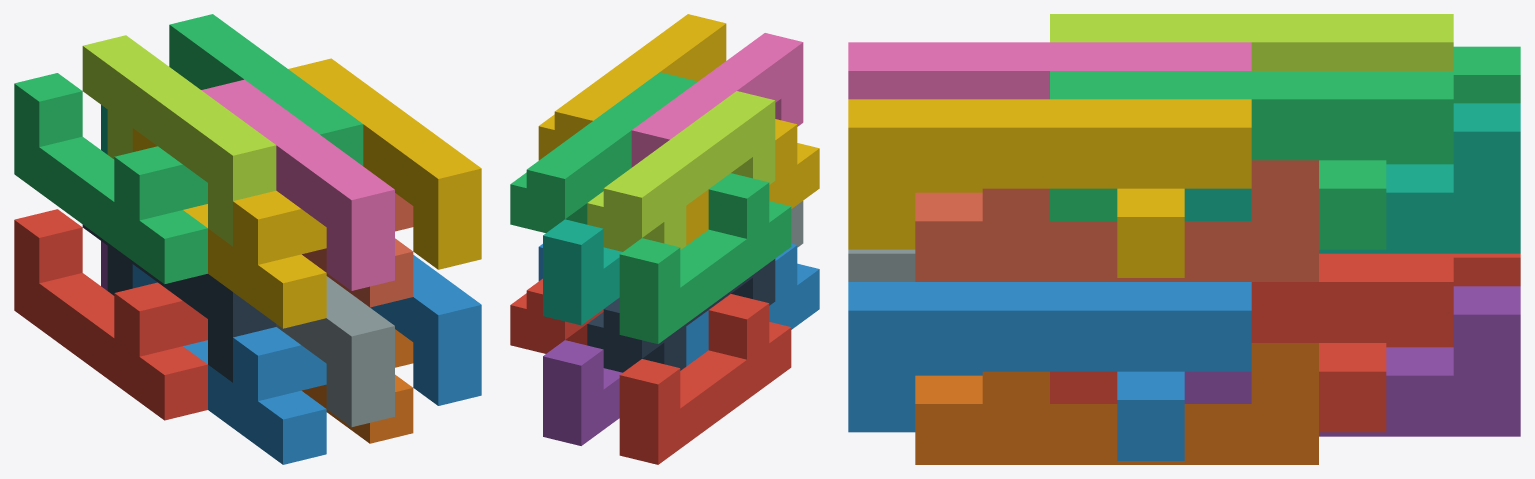
File: tiling.obj
The picture shows the model from 3 angles, left to right: view 1: azimuth 30°, elevation 25°; view 2: azimuth 150°, elevation 25°; view 3: azimuth 270°, elevation 25°; orthographic projection. The views are drawn at different scales.
Visible parts, largest first — view 1: copy_1_domain_1, copy_1_domain_3, copy_2_domain_3, copy_2_domain_4, copy_2_domain_8, copy_1_domain_2, copy_1_domain_4, copy_2_domain_7, copy_2_domain_2, copy_2_domain_6, copy_2_domain_1, copy_1_domain_8 (+1 smaller); view 2: copy_1_domain_3, copy_1_domain_1, copy_2_domain_3, copy_2_domain_7, copy_2_domain_4, copy_2_domain_8, copy_1_domain_7, copy_1_domain_5, copy_2_domain_1, copy_1_domain_4, copy_1_domain_2, copy_2_domain_5 (+1 smaller); view 3: copy_2_domain_8, copy_2_domain_6, copy_2_domain_7, copy_1_domain_6, copy_1_domain_8, copy_2_domain_5, copy_1_domain_7, copy_1_domain_5, copy_2_domain_4, copy_2_domain_3, copy_1_domain_3, copy_1_domain_1 (+1 smaller).
Part boxes in pixels (bbox=[...]): copy_1_domain_1: bbox=[14, 209, 207, 420]; copy_1_domain_3: bbox=[14, 73, 207, 284]; copy_2_domain_3: bbox=[82, 35, 276, 246]; copy_2_domain_4: bbox=[201, 79, 394, 290]; copy_2_domain_8: bbox=[288, 58, 481, 269]; copy_1_domain_2: bbox=[132, 264, 326, 464]; copy_1_domain_4: bbox=[132, 128, 326, 328]; copy_2_domain_7: bbox=[169, 14, 363, 165]; copy_2_domain_2: bbox=[276, 276, 394, 427]; copy_2_domain_6: bbox=[370, 255, 481, 405]; copy_2_domain_1: bbox=[82, 224, 276, 382]; copy_1_domain_8: bbox=[302, 193, 413, 307]; copy_1_domain_3: bbox=[619, 173, 791, 343]; copy_1_domain_1: bbox=[619, 294, 791, 464]; copy_2_domain_3: bbox=[587, 91, 775, 251]; copy_2_domain_7: bbox=[510, 72, 697, 232]; copy_2_domain_4: bbox=[631, 33, 803, 167]; copy_2_domain_8: bbox=[538, 14, 726, 160]; copy_1_domain_7: bbox=[543, 219, 622, 325]; copy_1_domain_5: bbox=[543, 340, 622, 445]; copy_2_domain_1: bbox=[587, 259, 775, 372]; copy_1_domain_4: bbox=[686, 119, 819, 245]; copy_1_domain_2: bbox=[686, 243, 819, 366]; copy_2_domain_5: bbox=[510, 278, 603, 353]; copy_2_domain_8: bbox=[848, 99, 1251, 277]; copy_2_domain_6: bbox=[848, 282, 1251, 460]; copy_2_domain_7: bbox=[1050, 71, 1453, 249]; copy_1_domain_6: bbox=[915, 343, 1318, 464]; copy_1_domain_8: bbox=[915, 160, 1318, 281]; copy_2_domain_5: bbox=[1050, 253, 1453, 432]; copy_1_domain_7: bbox=[1184, 103, 1520, 253]; copy_1_domain_5: bbox=[1184, 286, 1520, 436]; copy_2_domain_4: bbox=[848, 42, 1251, 99]; copy_2_domain_3: bbox=[1050, 14, 1453, 70]; copy_1_domain_3: bbox=[1386, 46, 1520, 164]; copy_1_domain_1: bbox=[1386, 253, 1520, 347].
Size of the model in its own units: 6 by 6 by 10.
